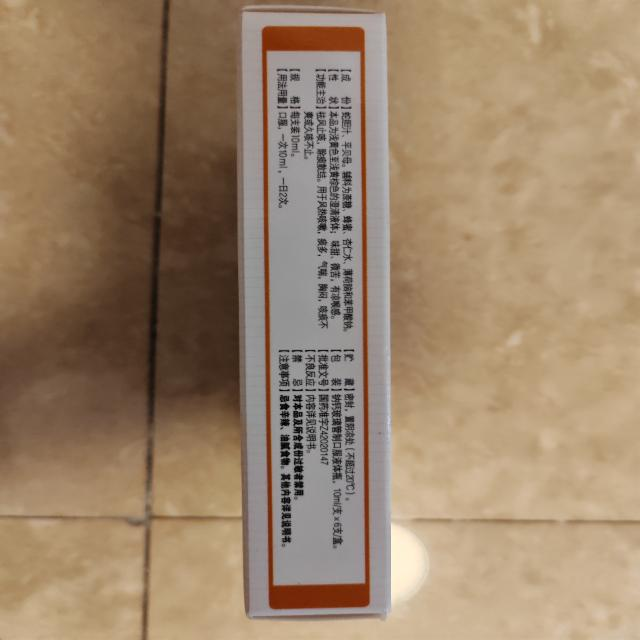box: (223, 0, 397, 629)
